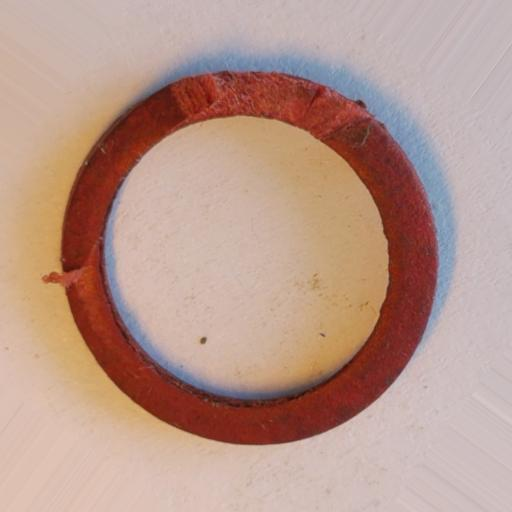defect: (166, 70, 373, 150), (42, 265, 105, 292)
